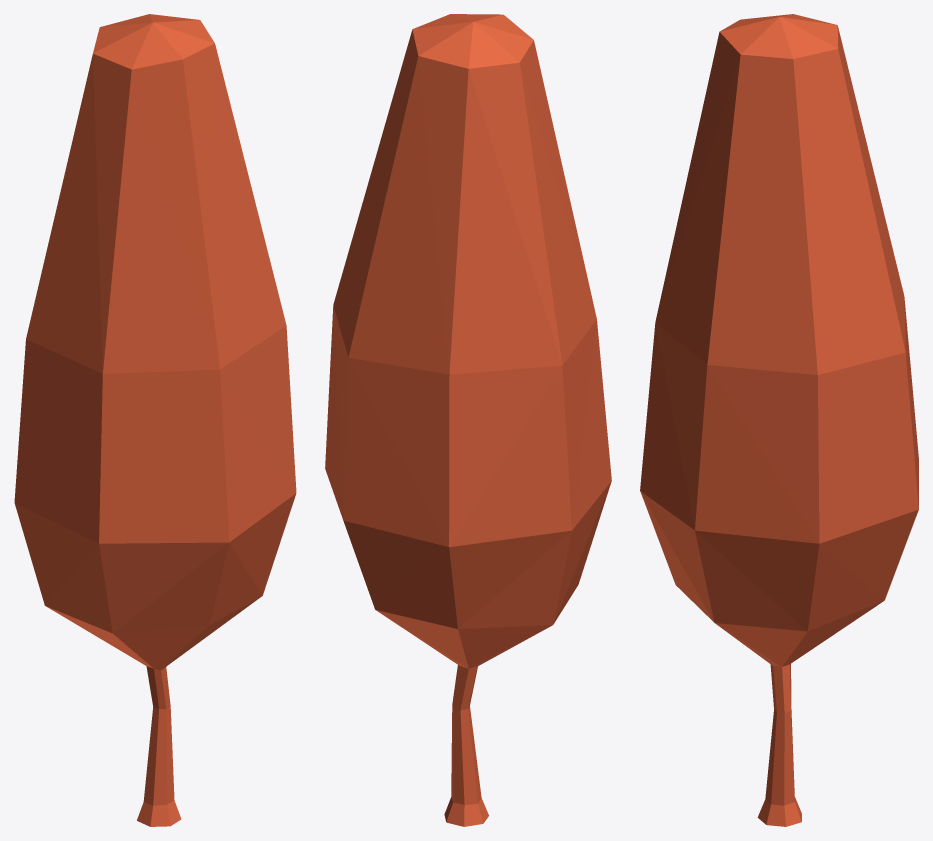
File: tree-polar-round_dark.fbx
3 renders of one model, left to right at view 1: azimuth 30°, elevation 25°; view 2: azimuth 150°, elevation 25°; view 3: azimuth 270°, elevation 25°, orthographic.
Parts seen in each view (by area): view 1: tree-polar-round_dark; view 2: tree-polar-round_dark; view 3: tree-polar-round_dark.
Part boxes in pixels (x1=…): tree-polar-round_dark: x1=14, y1=14, x2=296, y2=826; tree-polar-round_dark: x1=325, y1=14, x2=611, y2=826; tree-polar-round_dark: x1=640, y1=14, x2=918, y2=826.
Size of the model in its own units: 3.21 by 9.89 by 3.13.
